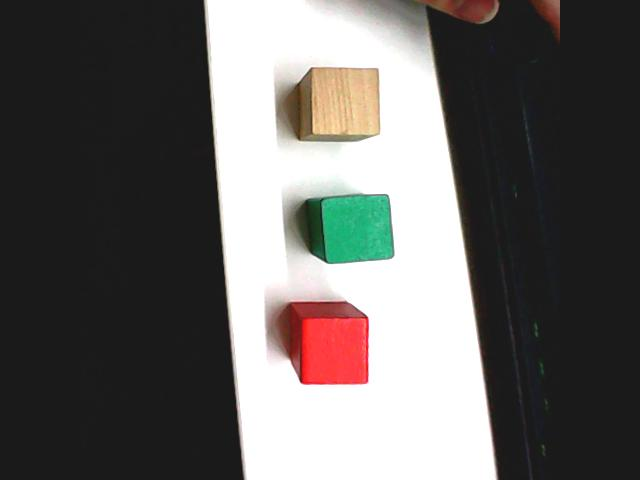green_box: (303, 190, 398, 266)
raw_box: (294, 63, 384, 144)
red_box: (285, 298, 374, 388)
